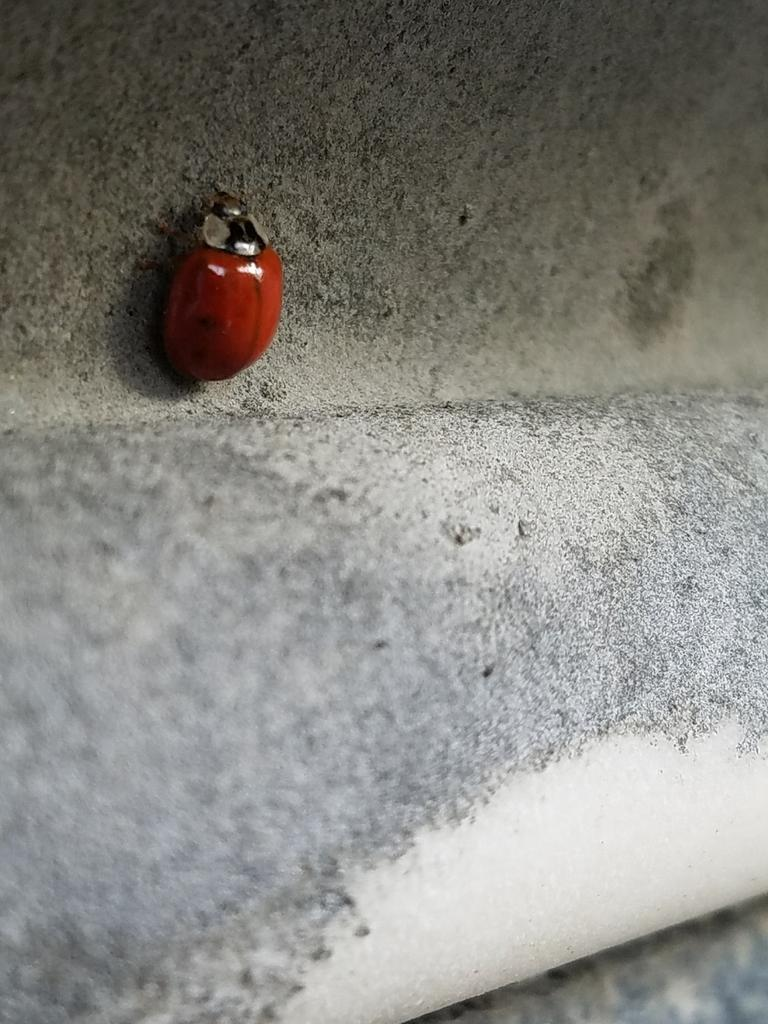ladybug: (136, 191, 291, 386)
